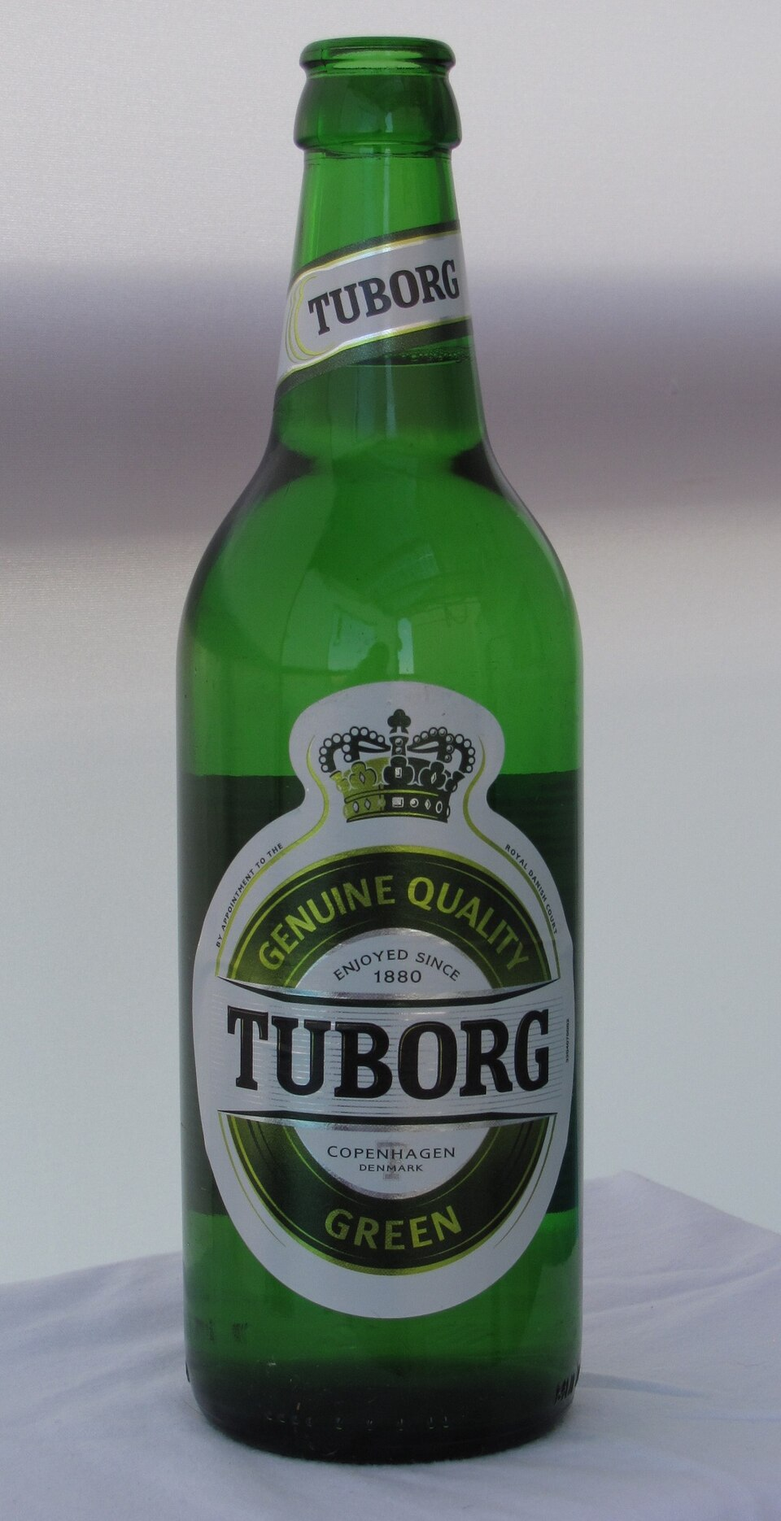beer-bottle: (163, 9, 598, 1482)
